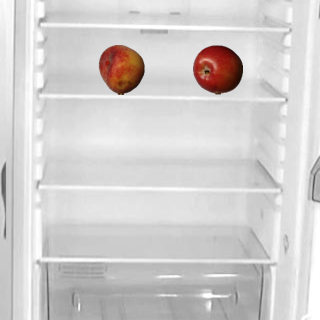Apple Braeburn: (192, 44, 242, 94)
Peach: (96, 44, 146, 94)
